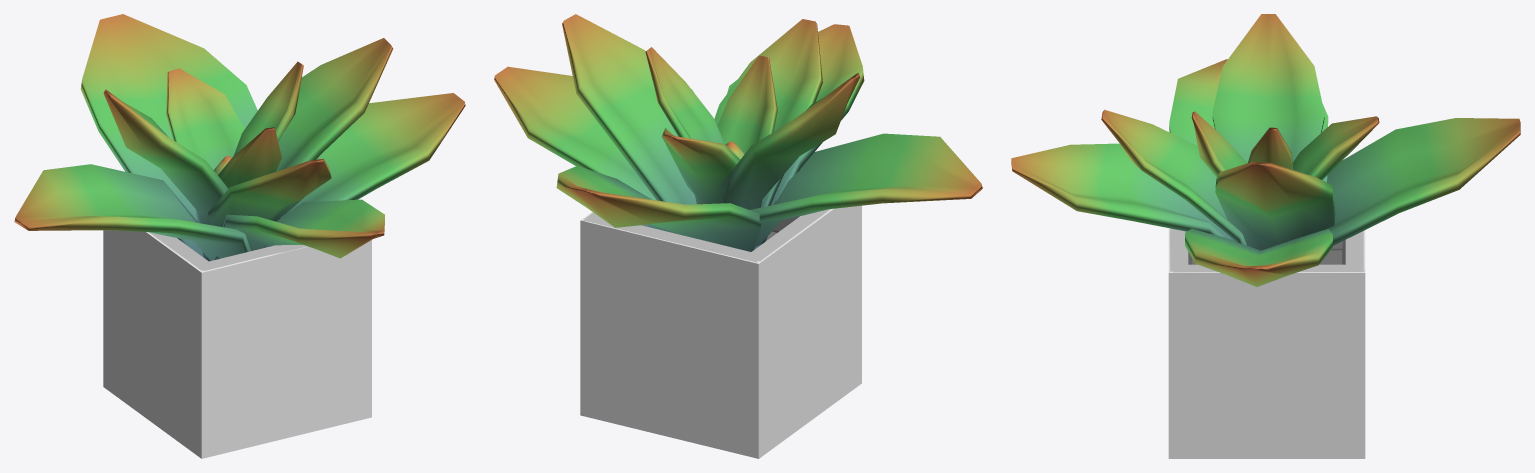
The model's file is SucculentMesh_001.fbx.
3 renders of one model, left to right at view 1: azimuth 30°, elevation 25°; view 2: azimuth 150°, elevation 25°; view 3: azimuth 270°, elevation 25°, orthographic. The views are drawn at different scales.
Parts seen in each view (by area): view 1: Succulent_001; view 2: Succulent_001; view 3: Succulent_001.
Part boxes in pixels (left/top/right/bottom): Succulent_001: left=14, top=14, right=465, bottom=458; Succulent_001: left=494, top=14, right=982, bottom=458; Succulent_001: left=1011, top=14, right=1520, bottom=458.
Size of the model in its own units: 0.024 by 0.0175 by 0.0237.
Materials: 1 (1 with a texture image).
